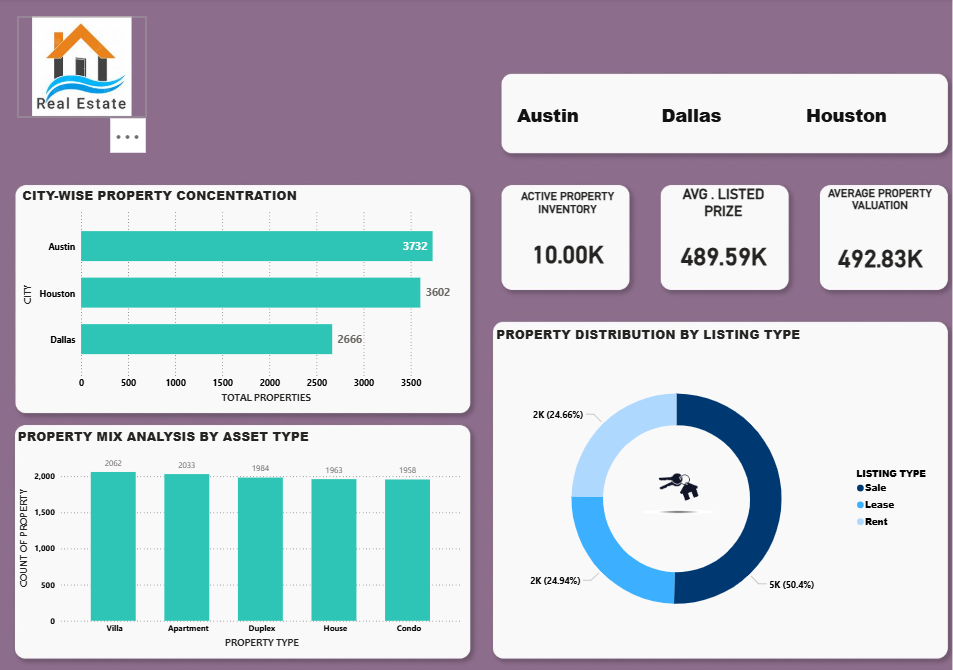

The dashboard page shown, as its layout file describes it:
{"tool":"powerbi","page":{"name":"PROPERTY OVERVIEW","canvas":[1440,1024],"ordinal":0},"visuals":[{"type":"clusteredColumnChart","title":"PROPERTY MIX ANALYSIS BY ASSET TYPE","fields":{"Category":["Properties.PropertyType"],"Y":["CountNonNull(Properties.PropertyType)"]},"box":[25,650,680,337.5],"z":0},{"type":"barChart","title":"CITY-WISE PROPERTY CONCENTRATION","fields":{"Category":["Neighborhoods.City"],"Y":["Measure_Table.Total_Properties"]},"box":[32.5,285,672.5,332.5],"z":1000},{"type":"card","title":"AVG . LISTED PRIZE","fields":{"Values":["Measure_Table.Avg_Listed_Price"]},"box":[997.5,285,192.5,155],"z":2000},{"type":"donutChart","title":"PROPERTY DISTRIBUTION BY LISTING TYPE","fields":{"Y":["Measure_Table.Total_Properties"],"Category":["Properties.ListingType"]},"box":[747.5,495,680,495],"z":3000},{"type":"card","title":"AVERAGE PROPERTY VALUATION","fields":{"Values":["Measure_Table.Avg_Market_Value"]},"box":[1236,284,190,172],"z":4000},{"type":"card","title":" ACTIVE PROPERTY INVENTORY","fields":{"Values":["CountNonNull(Properties.PropertyID)"]},"box":[766,284,184,156],"z":5000},{"type":"advancedSlicerVisual","fields":{"Values":["Properties.City"]},"box":[765.6,125.3,660.8,107.1],"z":6000},{"type":"image","box":[972.9,701.8,107.1,95.7],"z":8000},{"type":"textbox","box":[24.4,211.1,164.4,48],"z":9000},{"type":"image","box":[30,30,193.3,150],"z":12001}]}

Visuals, with their boxes in screenshot pixels (x1, y1, x2, y2), scaled from the page's 1440x1024 canvas onto the 953x670 screenshot:
"PROPERTY MIX ANALYSIS BY ASSET TYPE" clusteredColumnChart: locate(17, 425, 467, 646)
"CITY-WISE PROPERTY CONCENTRATION" barChart: locate(22, 186, 467, 404)
"AVG . LISTED PRIZE" card: locate(660, 186, 788, 288)
"PROPERTY DISTRIBUTION BY LISTING TYPE" donutChart: locate(495, 324, 945, 648)
"AVERAGE PROPERTY VALUATION" card: locate(818, 186, 944, 298)
" ACTIVE PROPERTY INVENTORY" card: locate(507, 186, 629, 288)
advancedSlicerVisual - Properties.City: locate(507, 82, 944, 152)
image: locate(644, 459, 715, 522)
textbox: locate(16, 138, 125, 170)
image: locate(20, 20, 148, 118)
